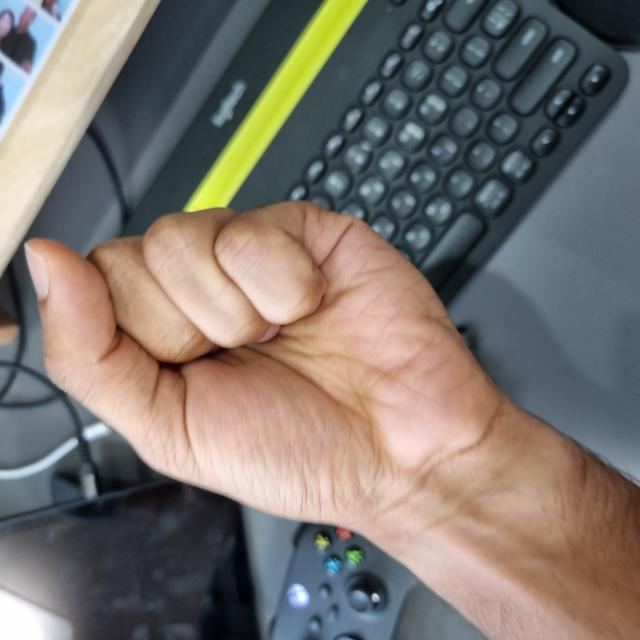Rock: (113, 26, 438, 494)
